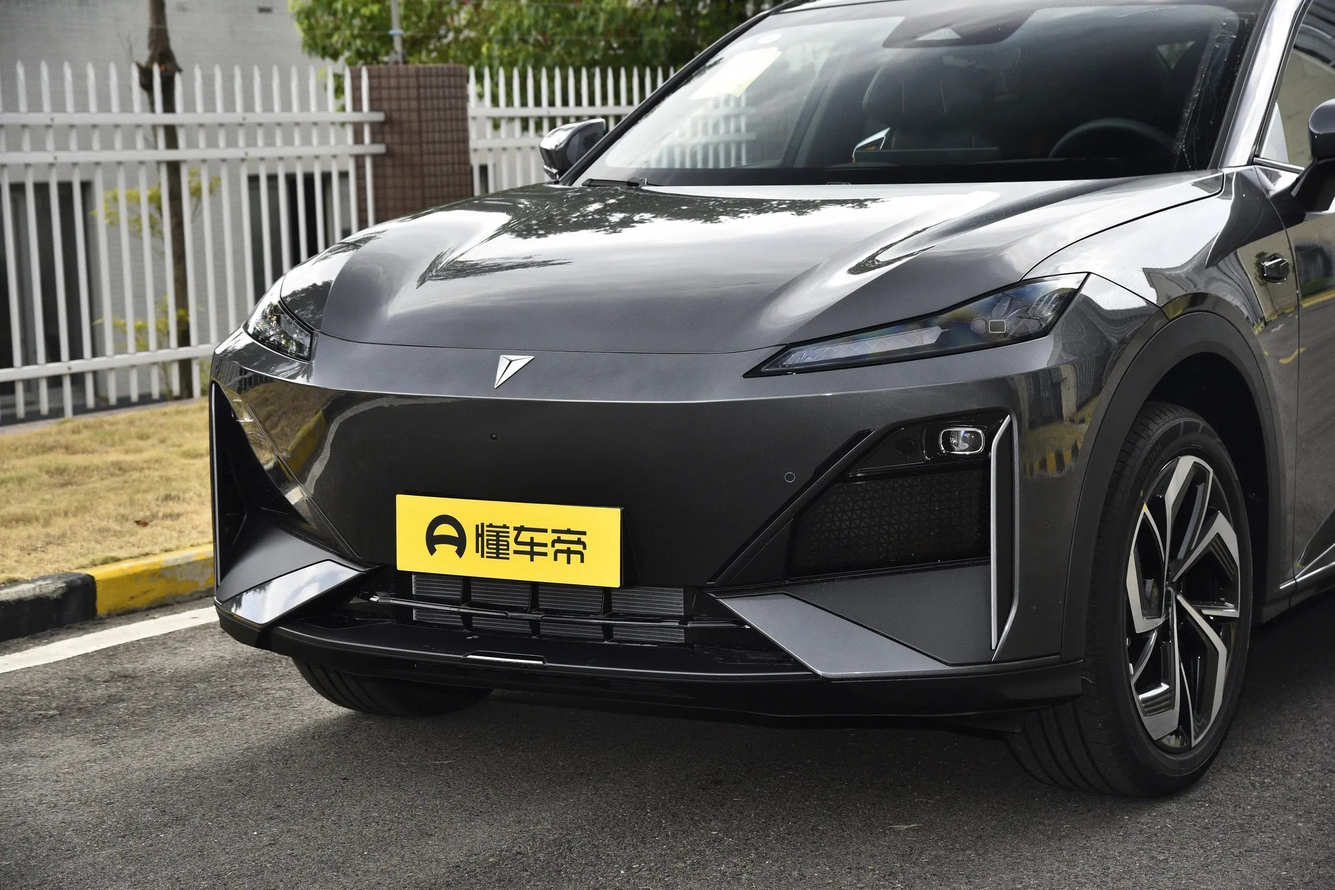Deepal: (494, 355, 533, 388)
